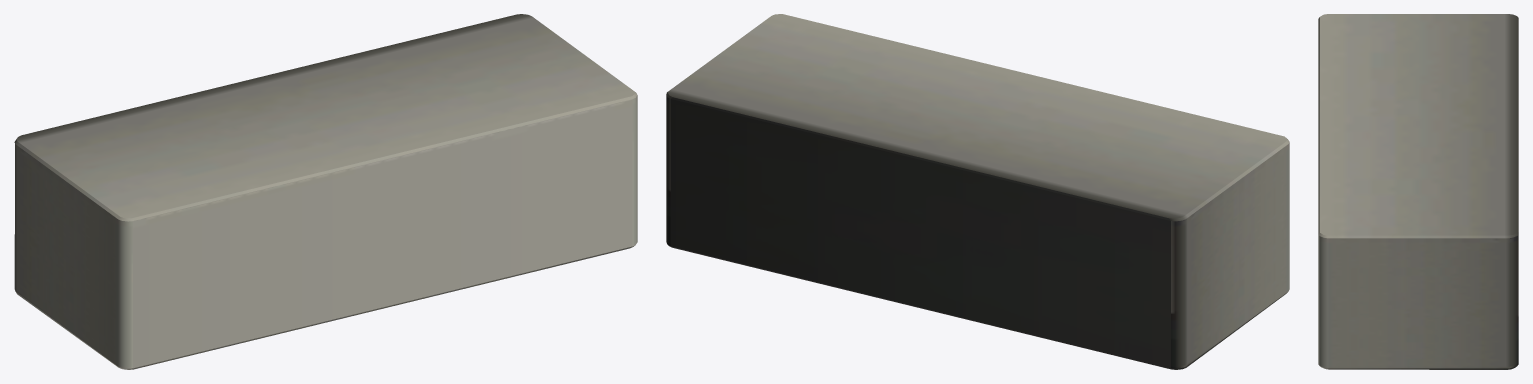
Rendered from nt_2020_bookshelf_03_LOD0.obj.
The picture shows the model from 3 angles, left to right: view 1: azimuth 30°, elevation 25°; view 2: azimuth 150°, elevation 25°; view 3: azimuth 270°, elevation 25°; orthographic projection. The views are drawn at different scales.
Parts seen in each view (by area): view 1: mtl_nt_2020_bookshelf_03; view 2: mtl_nt_2020_bookshelf_03; view 3: mtl_nt_2020_bookshelf_03.
Boxes of the visible parts, box(x1,y1,x2,y2) form: mtl_nt_2020_bookshelf_03: box(14, 14, 637, 369); mtl_nt_2020_bookshelf_03: box(666, 14, 1289, 369); mtl_nt_2020_bookshelf_03: box(1318, 14, 1518, 369).
Bounding box in the file's own units: 248 × 69.21 × 93.98.
